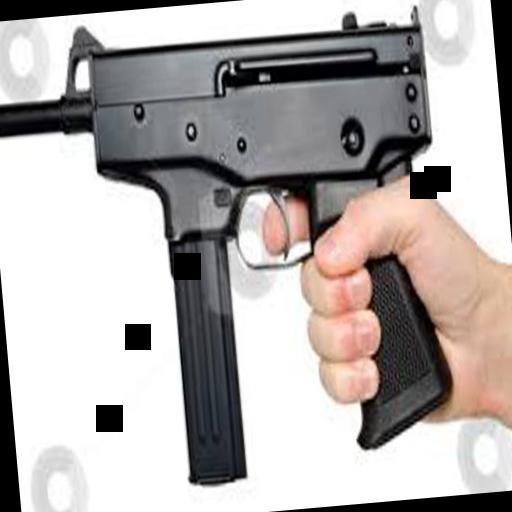Handgun: (53, 0, 474, 490)
